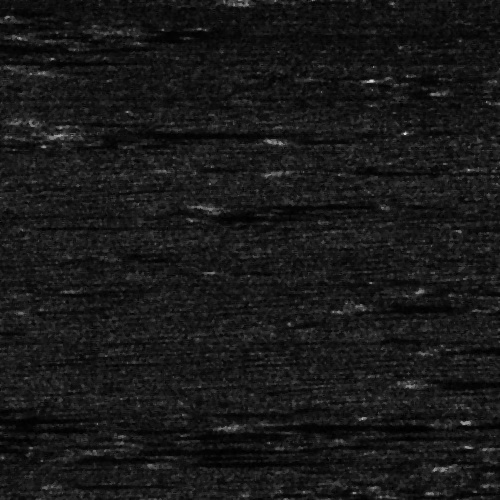object: (33, 127, 116, 138), (11, 118, 84, 125), (250, 165, 323, 172), (75, 445, 128, 454), (38, 451, 101, 458), (201, 197, 242, 206), (152, 458, 193, 463), (27, 481, 68, 484), (195, 214, 226, 217)
shadow: (74, 127, 348, 138), (102, 445, 272, 454), (222, 197, 368, 206), (0, 43, 185, 50), (287, 165, 438, 172), (0, 409, 49, 428), (173, 458, 316, 463), (70, 451, 170, 458), (48, 118, 115, 125), (211, 214, 320, 217), (48, 481, 152, 484), (0, 424, 57, 429)
